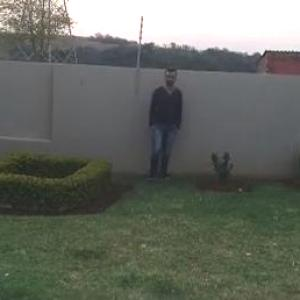follow: (147, 64, 184, 186)
